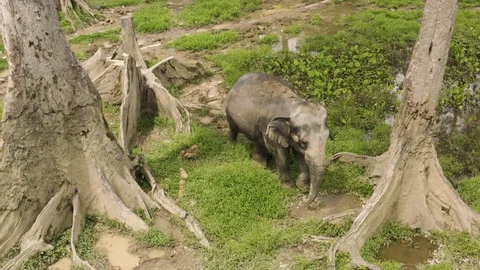Adult Elephant: (199, 48, 346, 213)
